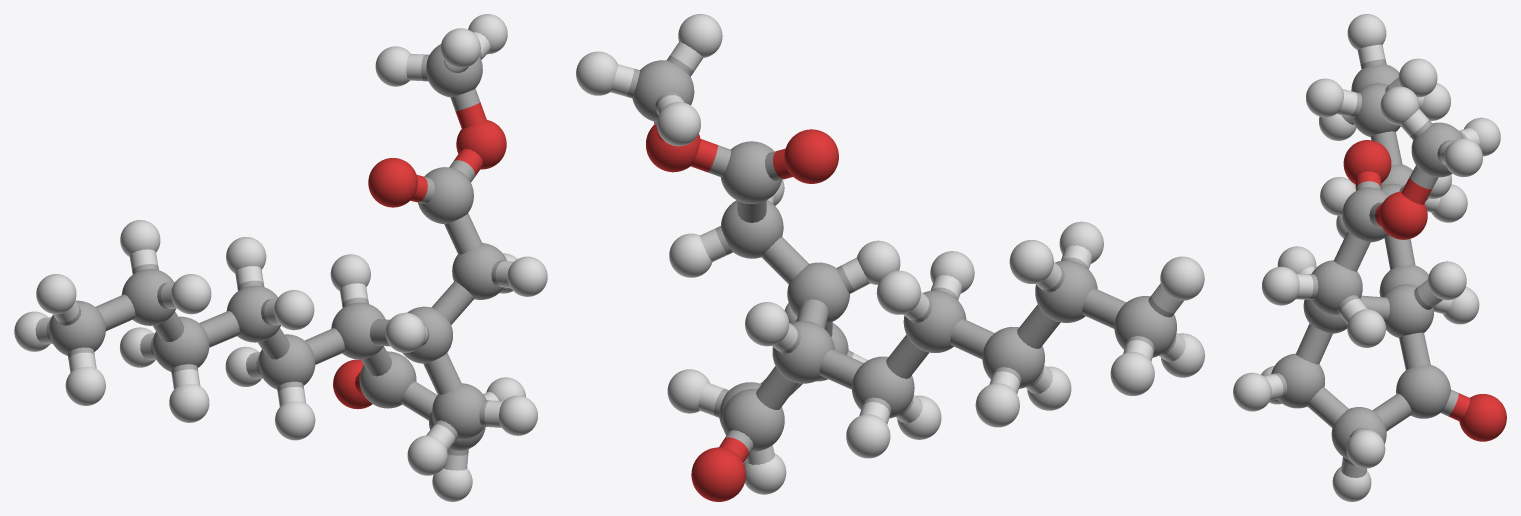
Rendered from MeDHJA.glb.
3 renders of one model, left to right at view 1: azimuth 30°, elevation 25°; view 2: azimuth 150°, elevation 25°; view 3: azimuth 270°, elevation 25°, orthographic. The views are drawn at different scales.
Parts seen in each view (by area): view 1: atoms, bonds; view 2: atoms, bonds; view 3: atoms, bonds.
Boxes of the visible parts, x1,y1,x2,y2 form: atoms: (14,14,547,501); bonds: (35,32,513,470); atoms: (576,14,1204,501); bonds: (610,41,1185,464); atoms: (1233,14,1506,501); bonds: (1263,44,1479,477).
Bounding box in the file's own units: 10.65 × 8.75 × 5.08.
